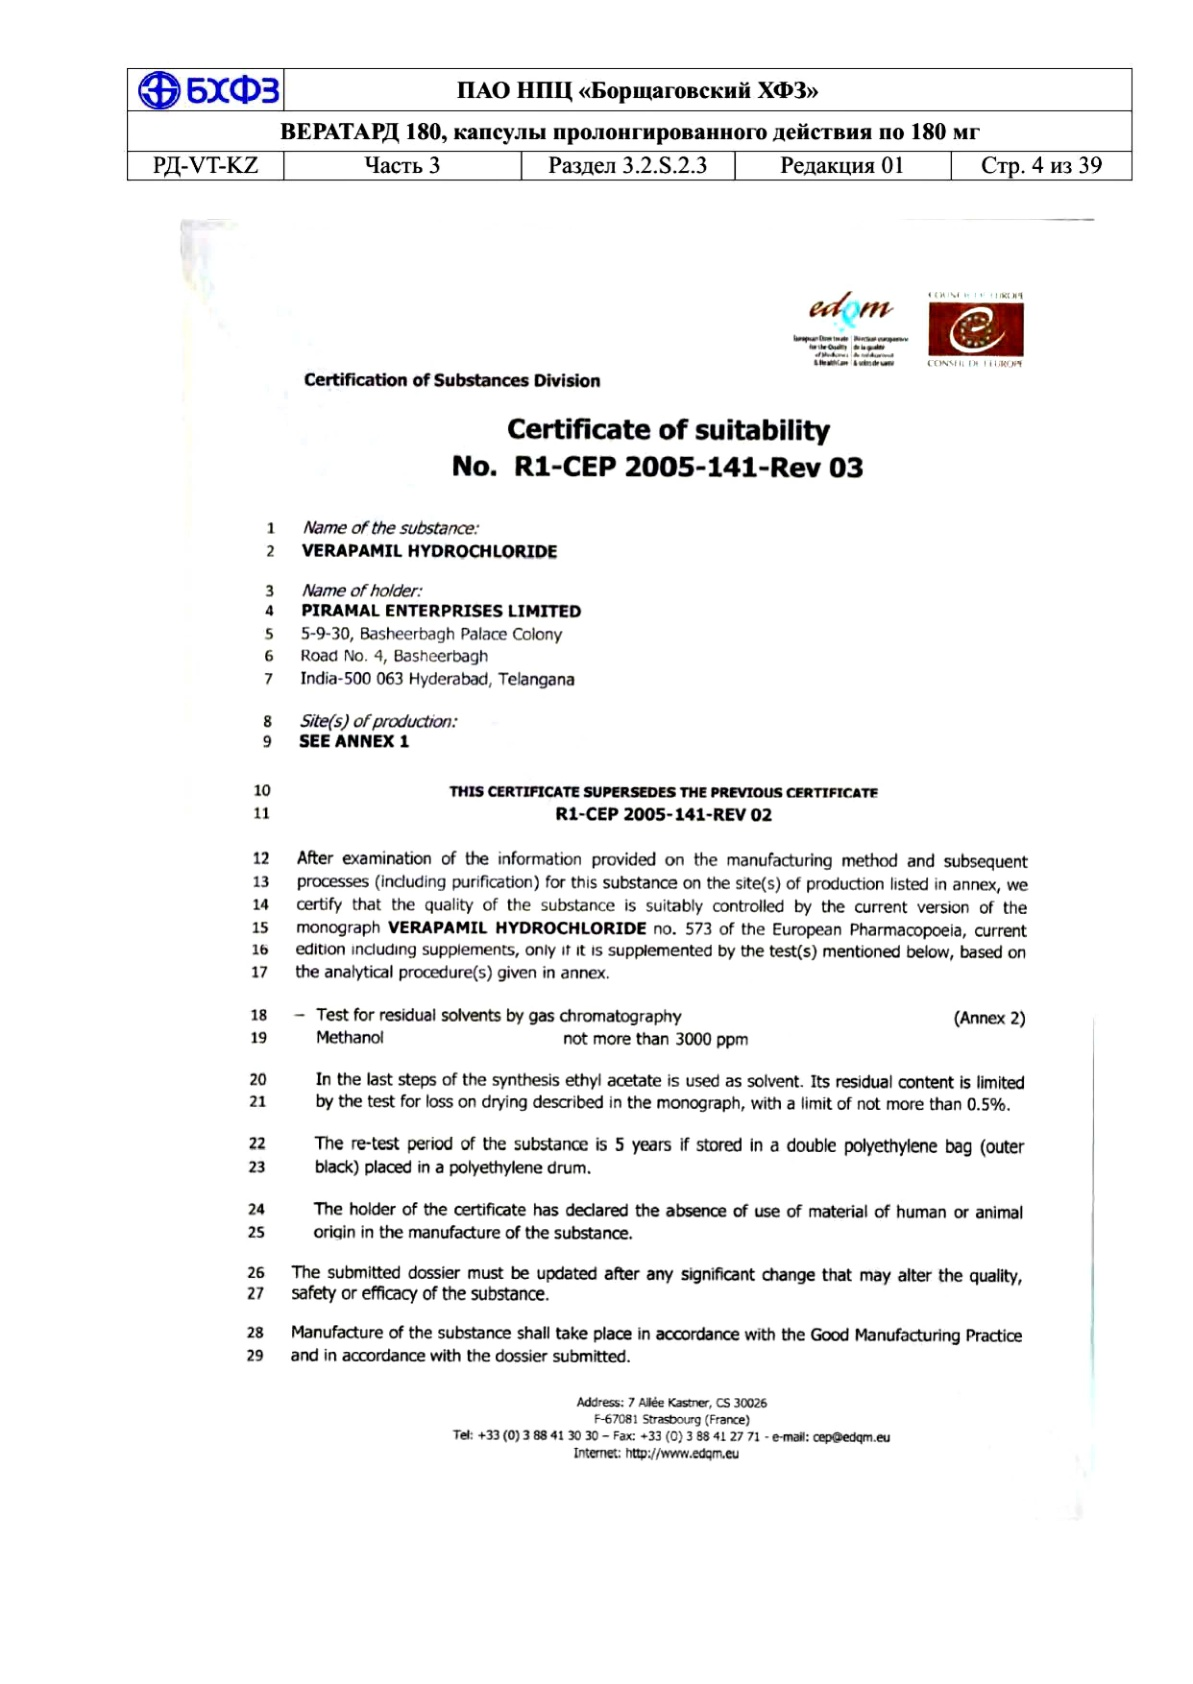merged_cells: (125, 67, 1134, 182)
